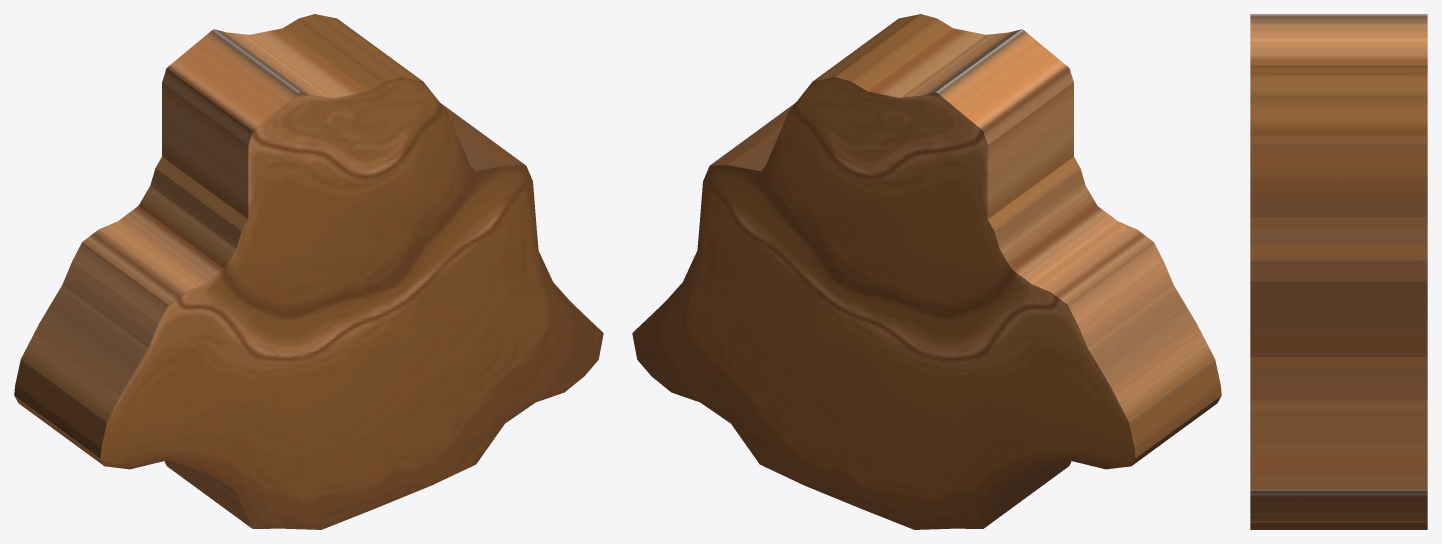
Rendered from rock2.fbx.
The picture shows the model from 3 angles, left to right: view 1: azimuth 30°, elevation 25°; view 2: azimuth 150°, elevation 25°; view 3: azimuth 270°, elevation 25°; orthographic projection. The views are drawn at different scales.
Visible parts, largest first — view 1: Plane; view 2: Plane; view 3: Plane.
Part boxes in pixels (box(x1,y1,x2,y2)): Plane: box(14, 14, 603, 529); Plane: box(632, 14, 1221, 529); Plane: box(1250, 14, 1427, 529).
Size of the model in its own units: 405 by 341 by 120.
